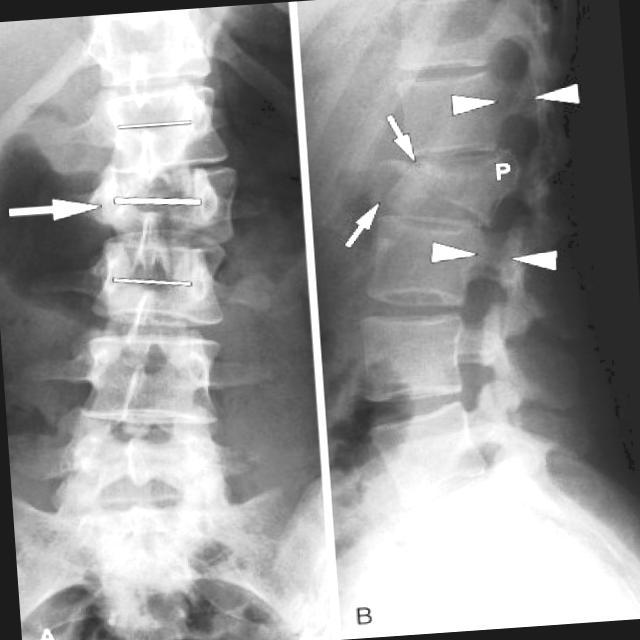Compression-Crush Fracutre: (74, 164, 258, 241), (391, 145, 509, 230)
